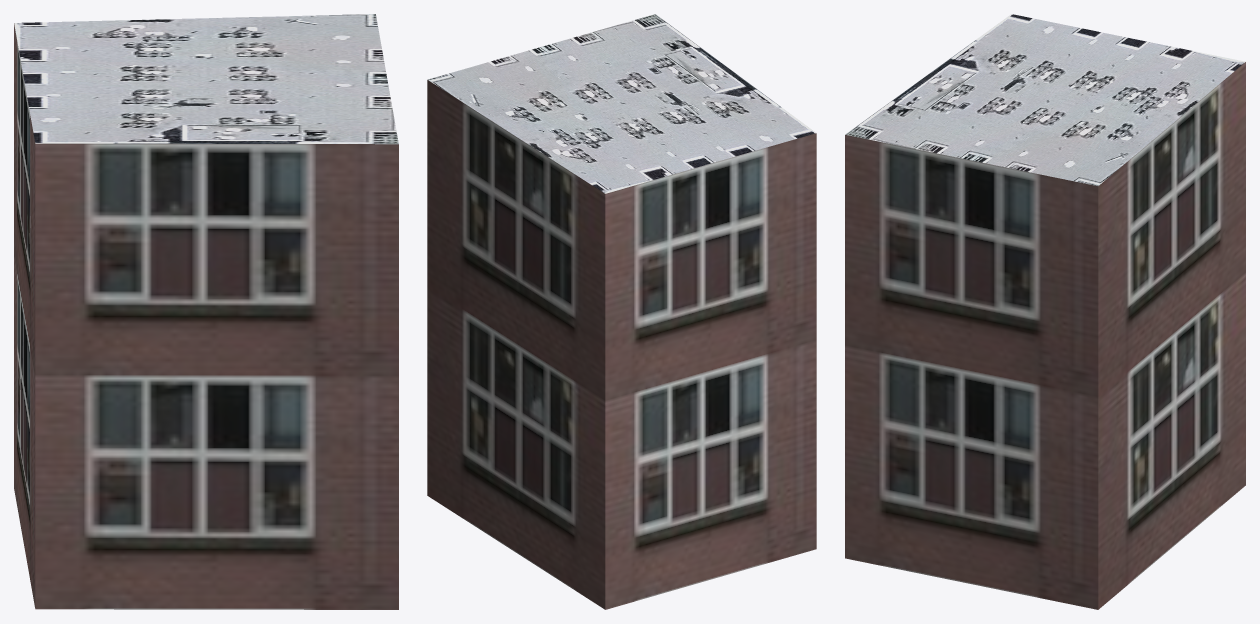
Rendered from ResTex__2723.fbx.
The picture shows the model from 3 angles, left to right: view 1: azimuth 30°, elevation 25°; view 2: azimuth 150°, elevation 25°; view 3: azimuth 270°, elevation 25°; orthographic projection. The views are drawn at different scales.
Parts seen in each view (by area): view 1: CityEngineMaterial_12_m, CityEngineMaterial_8_m; view 2: CityEngineMaterial_12_m, CityEngineMaterial_8_m; view 3: CityEngineMaterial_12_m, CityEngineMaterial_8_m.
Boxes of the visible parts, x1,y1,x2,y2 form: CityEngineMaterial_12_m: (14, 23, 398, 609); CityEngineMaterial_8_m: (14, 14, 398, 144); CityEngineMaterial_12_m: (427, 80, 816, 609); CityEngineMaterial_8_m: (428, 14, 816, 193); CityEngineMaterial_12_m: (845, 62, 1245, 609); CityEngineMaterial_8_m: (845, 14, 1245, 185).
Size of the model in its own units: 5.23 by 6 by 5.15.
Materials: 2 (2 with a texture image).
